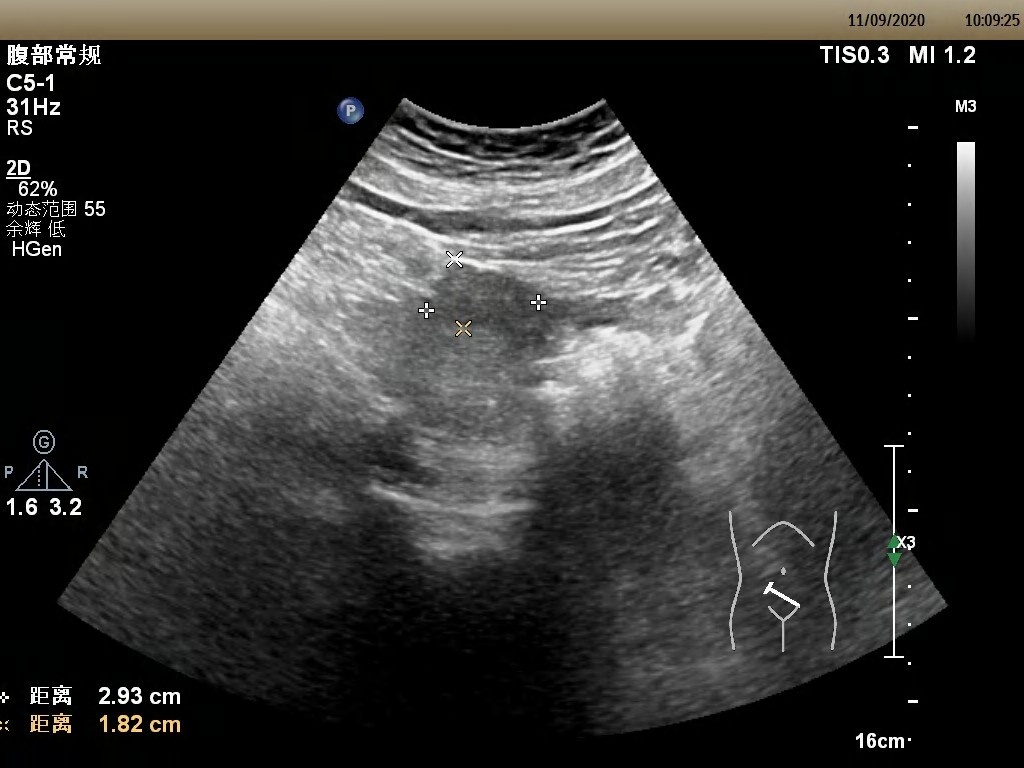肌瘤: (427, 261, 540, 328)
